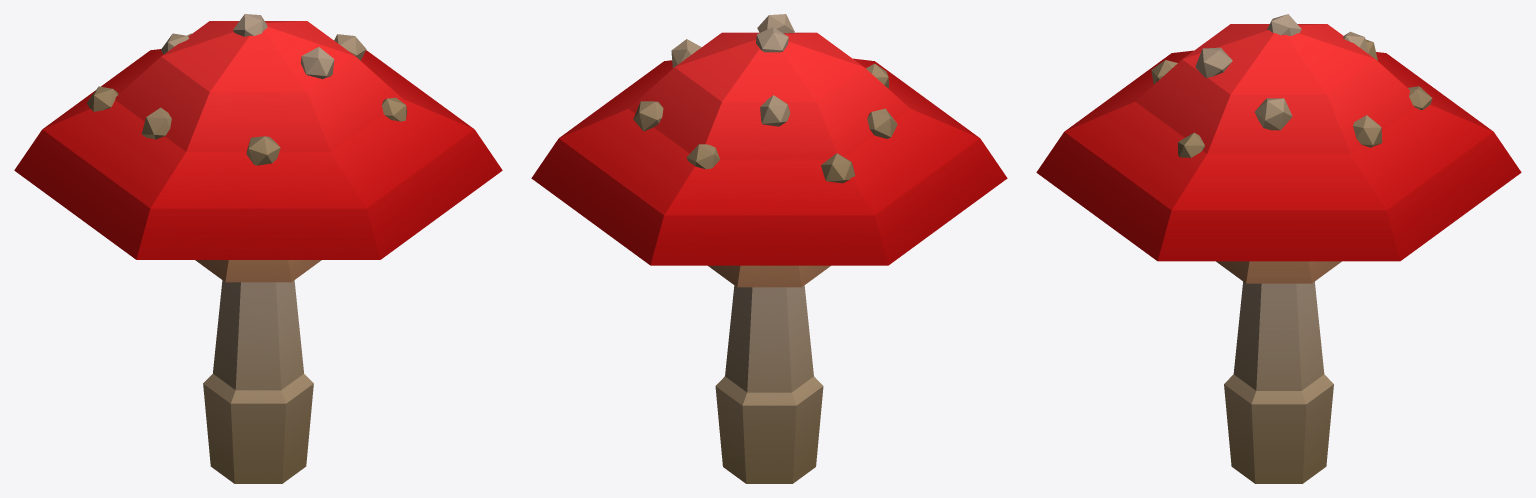
Rendered from Mushroom_Red_02.fbx.
3 views of the same model, side by side, from view 1: azimuth 30°, elevation 25°; view 2: azimuth 150°, elevation 25°; view 3: azimuth 270°, elevation 25° (orthographic). The views are drawn at different scales.
Parts seen in each view (by area): view 1: Mushroom_Red_02; view 2: Mushroom_Red_02; view 3: Mushroom_Red_02.
Boxes of the visible parts, bbox=[...] form: Mushroom_Red_02: bbox=[14, 14, 502, 483]; Mushroom_Red_02: bbox=[531, 14, 1007, 483]; Mushroom_Red_02: bbox=[1036, 14, 1521, 483].
Bounding box in the file's own units: 24.77 × 29.14 × 28.6.
